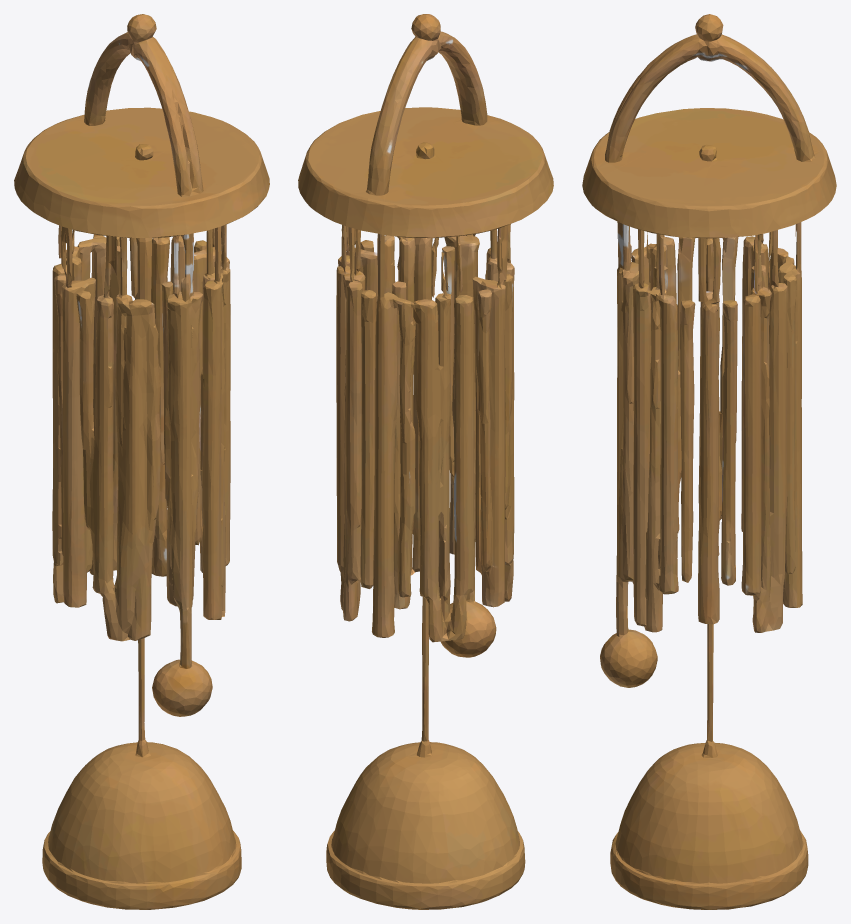
The picture shows the model from 3 angles, left to right: view 1: azimuth 30°, elevation 25°; view 2: azimuth 150°, elevation 25°; view 3: azimuth 270°, elevation 25°; orthographic projection.
Parts seen in each view (by area): view 1: wind_chime_45.obj; view 2: wind_chime_45.obj; view 3: wind_chime_45.obj.
Part boxes in pixels (x1,y1,x2,y2): wind_chime_45.obj: [14, 14, 269, 909]; wind_chime_45.obj: [298, 14, 553, 909]; wind_chime_45.obj: [582, 14, 836, 909].
Size of the model in its own units: 0.162 by 0.6 by 0.162.
1 material, 1 textured.
